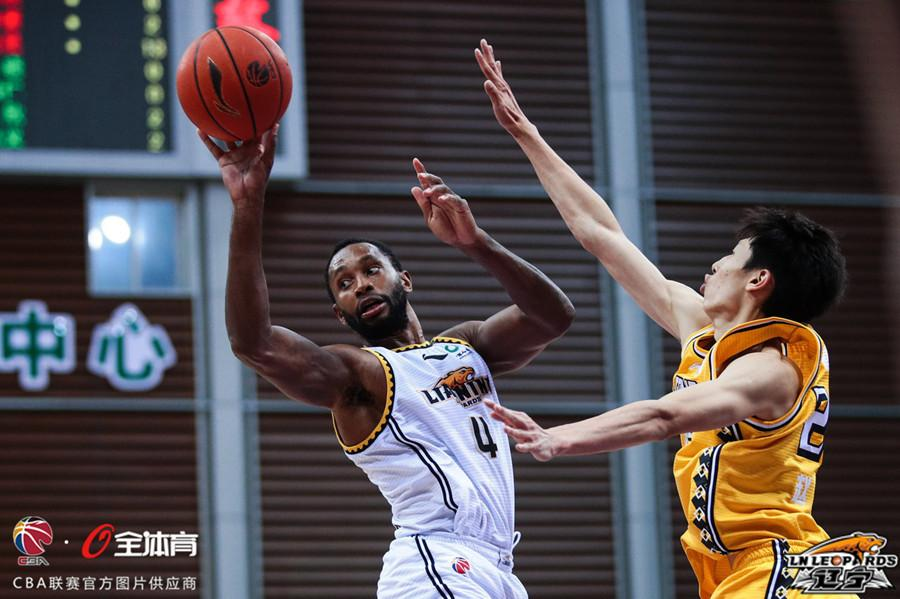ball: (175, 25, 294, 142), (12, 514, 54, 555)
